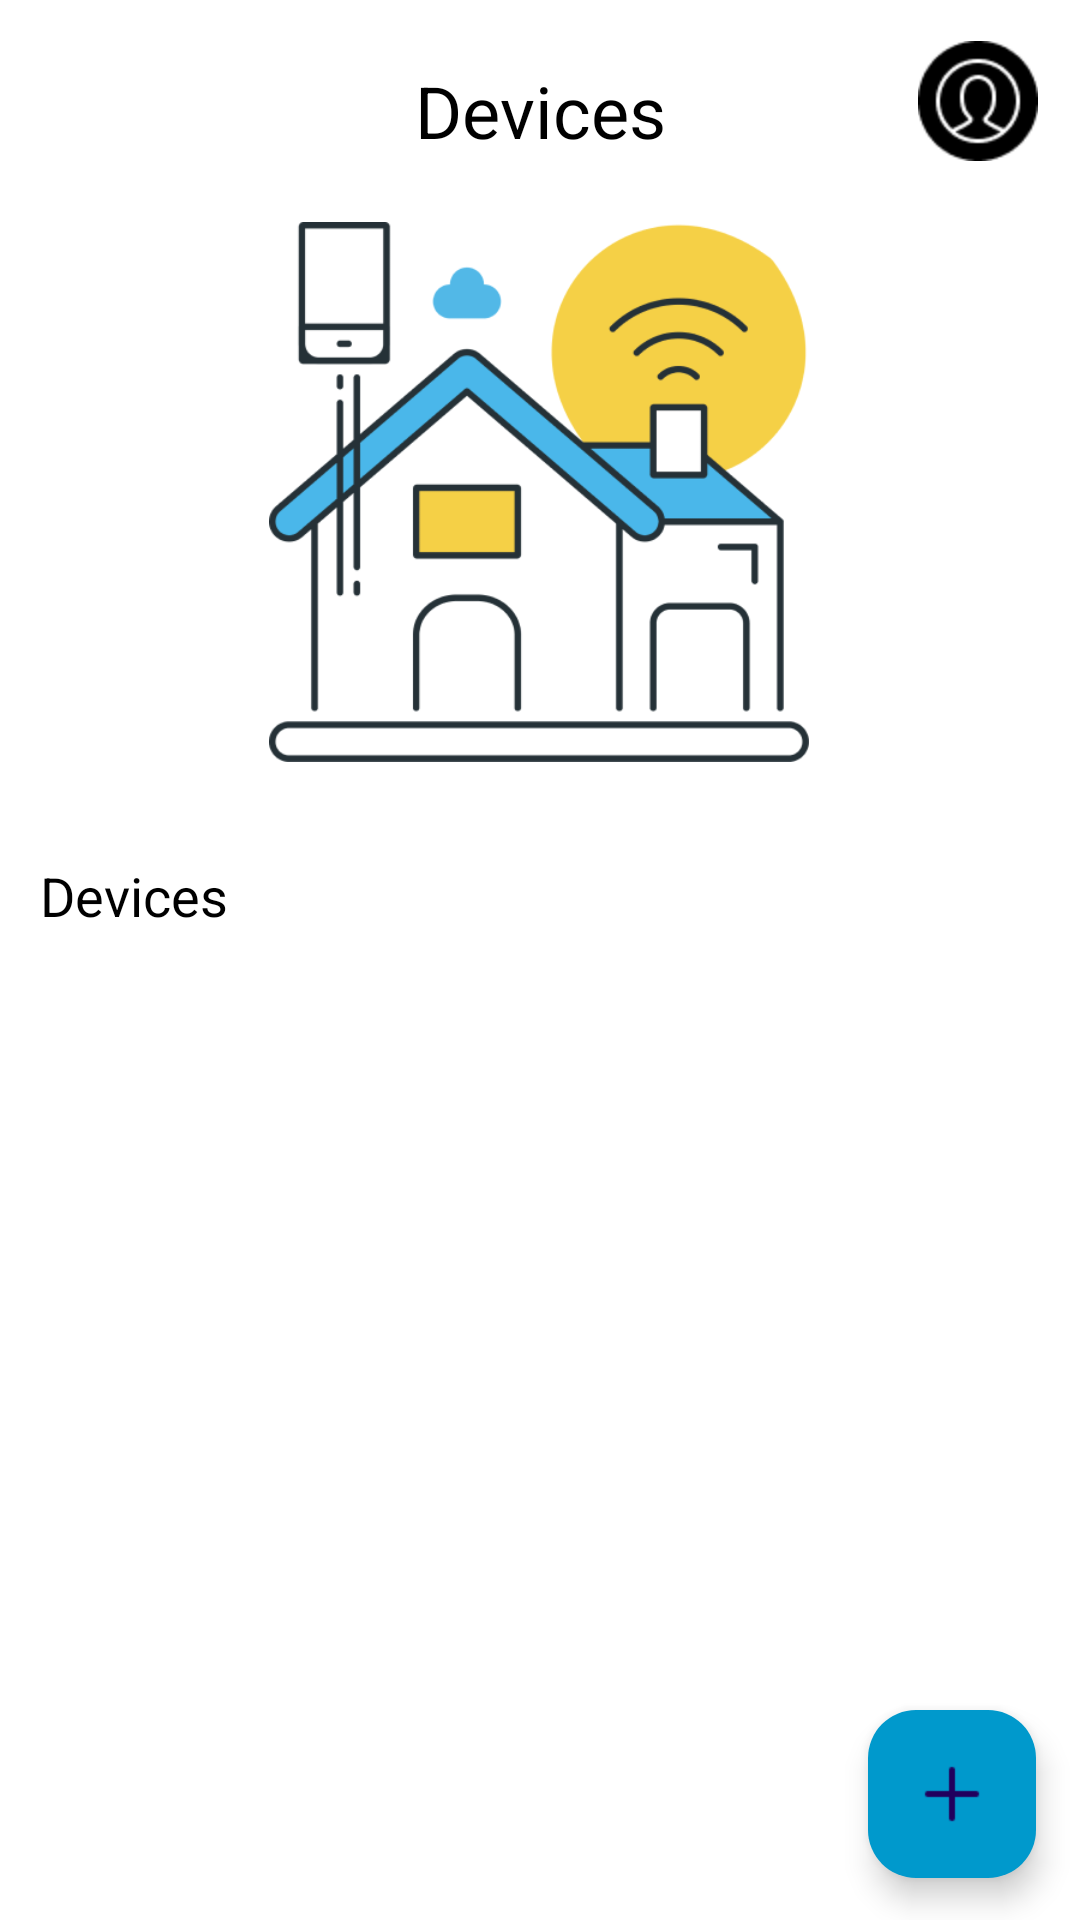

Icons on this 1080 × 1920 Android screen, each with its box as {"x1": x1, "y1": y1, "x2": x2, "y2": y2}:
imgaddicon: {"x1": 868, "y1": 1710, "x2": 1036, "y2": 1878}
imgprofilepic: {"x1": 918, "y1": 41, "x2": 1038, "y2": 161}
